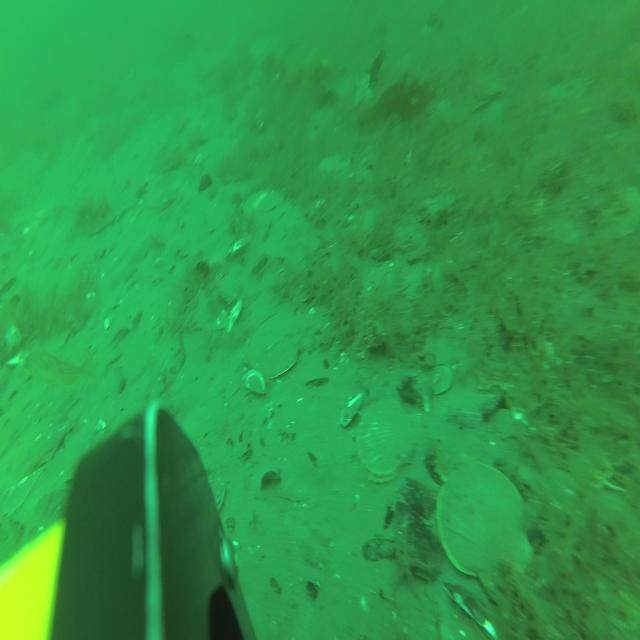scallop: (437, 462, 532, 602), (356, 398, 414, 482), (248, 313, 312, 380), (149, 181, 179, 212), (320, 155, 350, 181), (262, 191, 285, 210), (246, 187, 265, 208)
